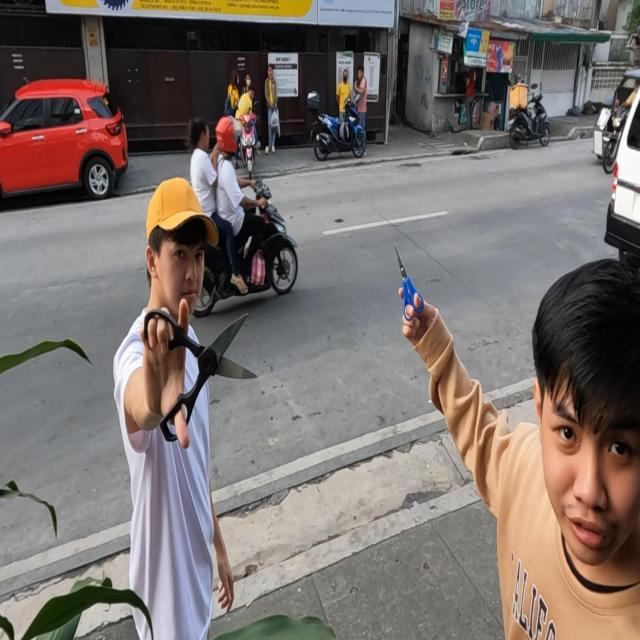scissor: (144, 308, 258, 442), (394, 242, 424, 321)
